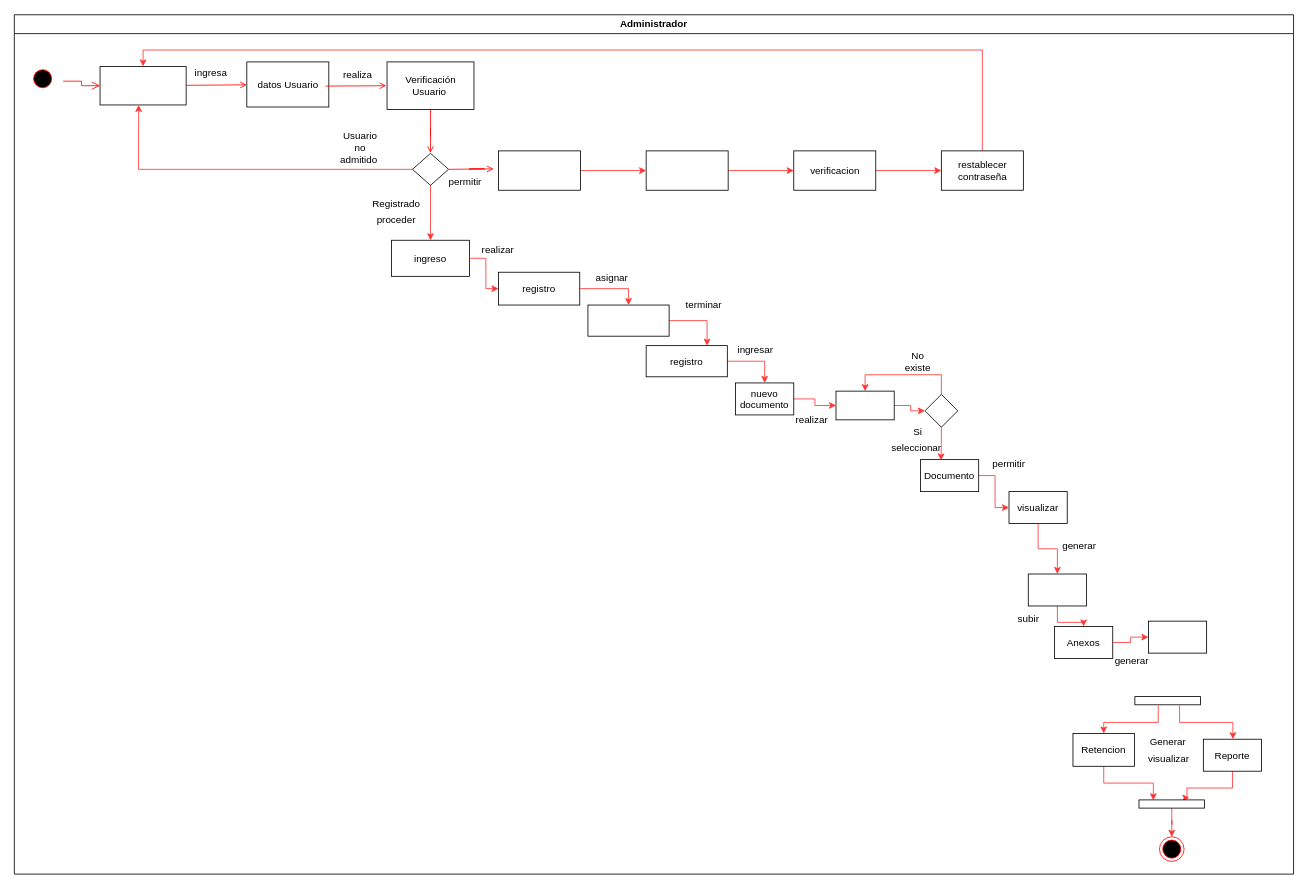
Image size: 1308x888. Some labels were removed from this diagram. The centre of each missing label's shape, as x and y in pixels:
Búsqueda Documento: the point at 864,405
Descargar: the point at 1056,589
ingresar datos: the point at 686,170
login null: the point at 142,85
recuperar contraseña: the point at 539,170
rol: the point at 628,320
version: the point at 1177,636
